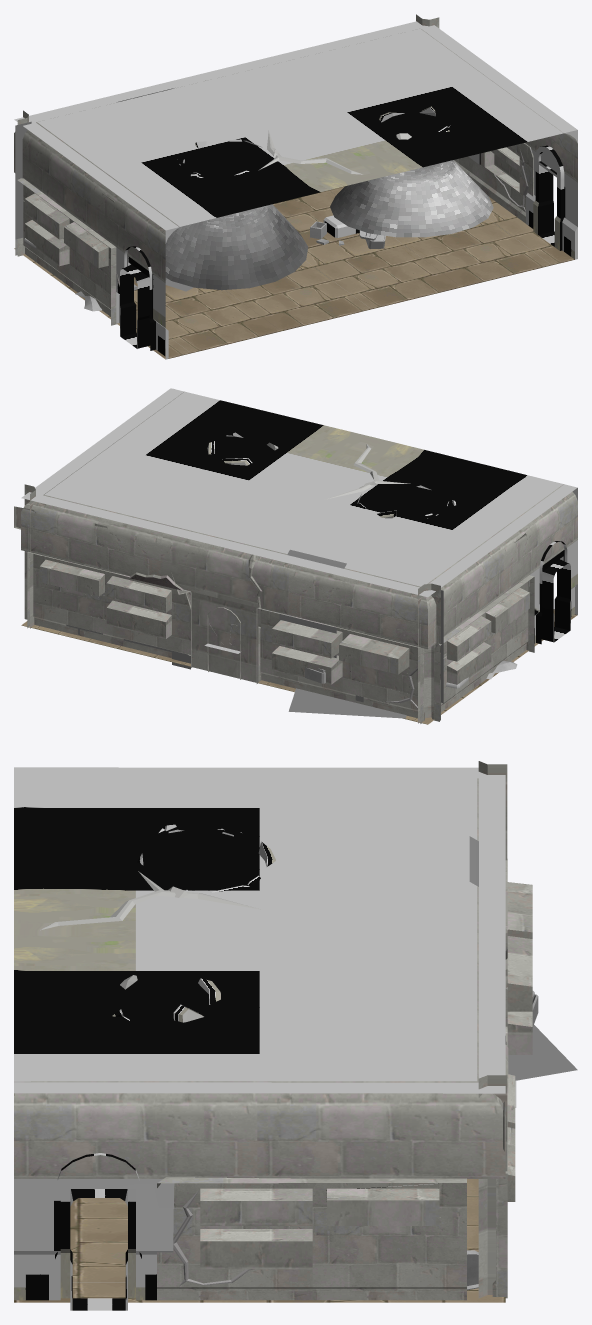
File: MSH_QuestMausoleum_L1_R2_optimized.fbx
3 views of the same model, one above another, from view 1: azimuth 30°, elevation 25°; view 2: azimuth 150°, elevation 25°; view 3: azimuth 270°, elevation 25° (orthographic). The views are drawn at different scales.
Visible parts, largest first — view 1: lightmap4, lightmap7, lightmap0, lightmap9, VFX_LightShaft_00 (2), VFX_LightShaft_00 (3), lightmap3, MSH_QuestMausoleum_L1_R2_Decals_01; view 2: lightmap4, lightmap0, lightmap9, lightmap3, MSH_QuestMausoleum_L1_R2_Decals_01, lightmap7; view 3: lightmap4, lightmap0, lightmap9, lightmap7, lightmap3, MSH_QuestMausoleum_L1_R2_Decals_01.
Part boxes in pixels (x1,y1,x2,y2): lightmap4: (14,21,577,230); lightmap7: (14,186,574,359); lightmap0: (14,29,577,356); lightmap9: (15,143,533,325); VFX_LightShaft_00 (2): (165,204,308,290); VFX_LightShaft_00 (3): (330,160,493,237); lightmap3: (17,14,564,350); MSH_QuestMausoleum_L1_R2_Decals_01: (15,88,193,291); lightmap4: (21,388,577,597); lightmap0: (21,392,577,682); lightmap9: (27,552,534,723); lightmap3: (14,484,570,723); MSH_QuestMausoleum_L1_R2_Decals_01: (66,549,443,718); lightmap7: (21,609,577,724); lightmap4: (14,767,505,1093); lightmap0: (14,778,516,1300); lightmap9: (157,859,532,1300); lightmap7: (14,1093,505,1302); lightmap3: (55,761,538,1310); MSH_QuestMausoleum_L1_R2_Decals_01: (469,836,577,1080).
Bounding box in the file's own units: 20.62 × 6.5 × 14.33.
